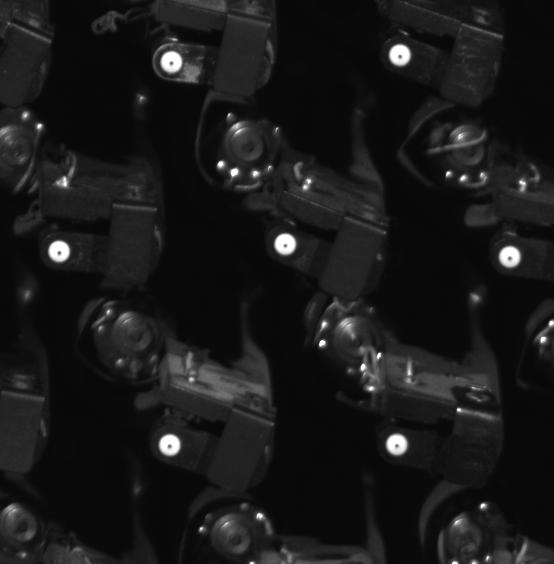fiber: (379, 427, 424, 461), (154, 431, 193, 461), (385, 39, 419, 72), (270, 230, 303, 260), (495, 243, 526, 273), (157, 49, 189, 77), (44, 239, 77, 265)
